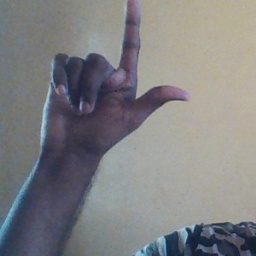L: (42, 1, 192, 151)
